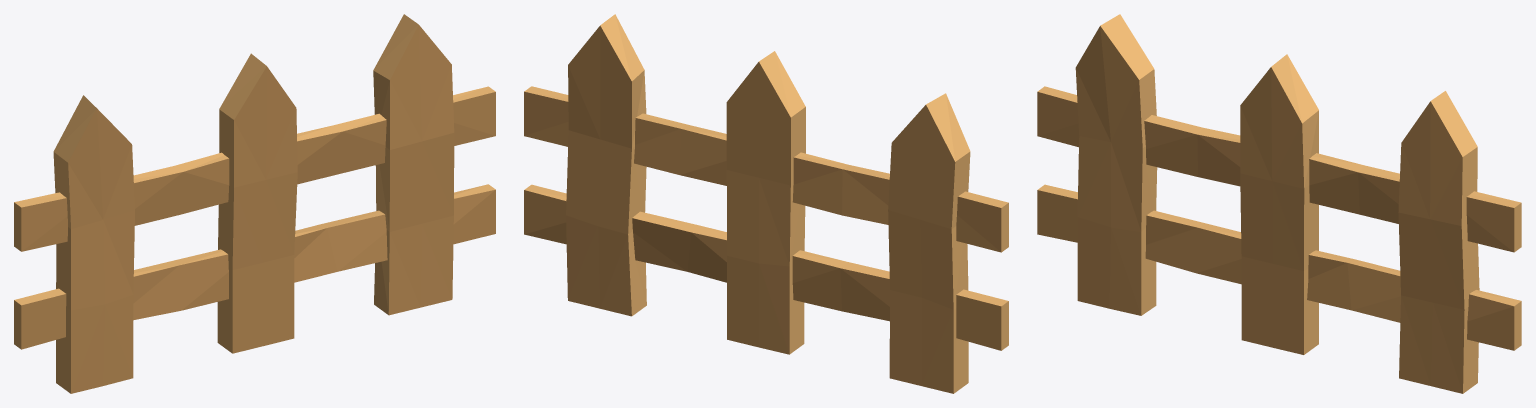
File: blendertimer-fence-10.glb
The picture shows the model from 3 angles, left to right: view 1: azimuth 30°, elevation 25°; view 2: azimuth 150°, elevation 25°; view 3: azimuth 330°, elevation 25°; orthographic projection.
Visible parts, largest first — view 1: Low Poly Fence; view 2: Low Poly Fence; view 3: Low Poly Fence.
Part boxes in pixels (bbox=[...]): Low Poly Fence: bbox=[14, 14, 495, 393]; Low Poly Fence: bbox=[524, 14, 1008, 393]; Low Poly Fence: bbox=[1037, 14, 1521, 393].
Bounding box in the file's own units: 1.2 × 0.6837 × 0.0804.
